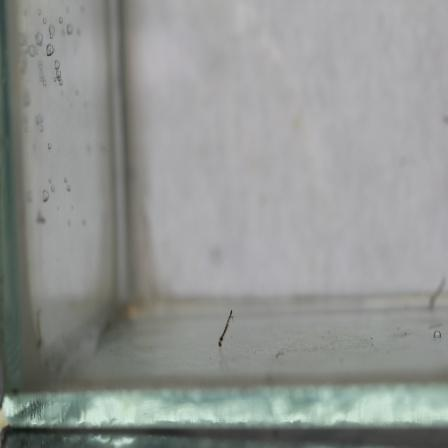Jentik-Nyamuk: (213, 305, 239, 351)
